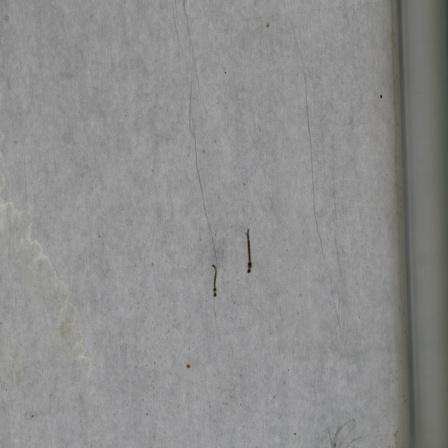Jentik-Nyamuk: (242, 224, 258, 280), (208, 261, 222, 301)
